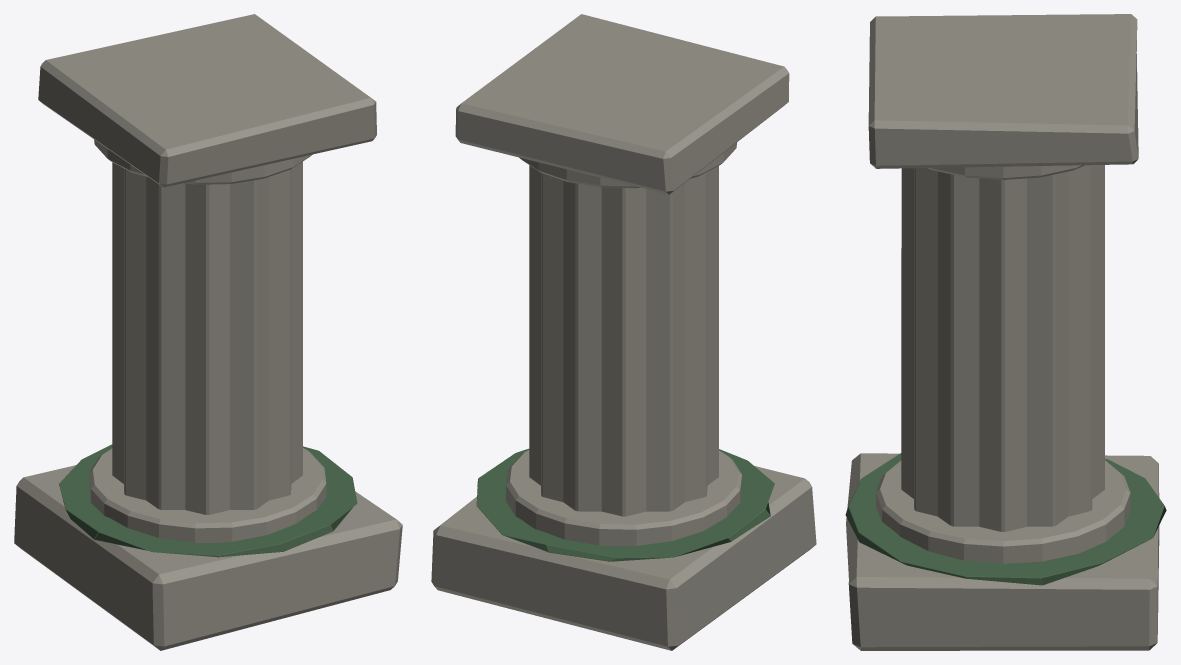
Rendered from SM_RuinColumn.fbx.
3 renders of one model, left to right at view 1: azimuth 30°, elevation 25°; view 2: azimuth 150°, elevation 25°; view 3: azimuth 270°, elevation 25°, orthographic. The views are drawn at different scales.
Parts seen in each view (by area): view 1: SM_RuinColumn; view 2: SM_RuinColumn; view 3: SM_RuinColumn.
Part boxes in pixels (x1,y1,x2,y2): SM_RuinColumn: [14, 14, 402, 650]; SM_RuinColumn: [431, 14, 816, 650]; SM_RuinColumn: [845, 14, 1166, 650].
Bounding box in the file's own units: 156 × 282 × 156.
